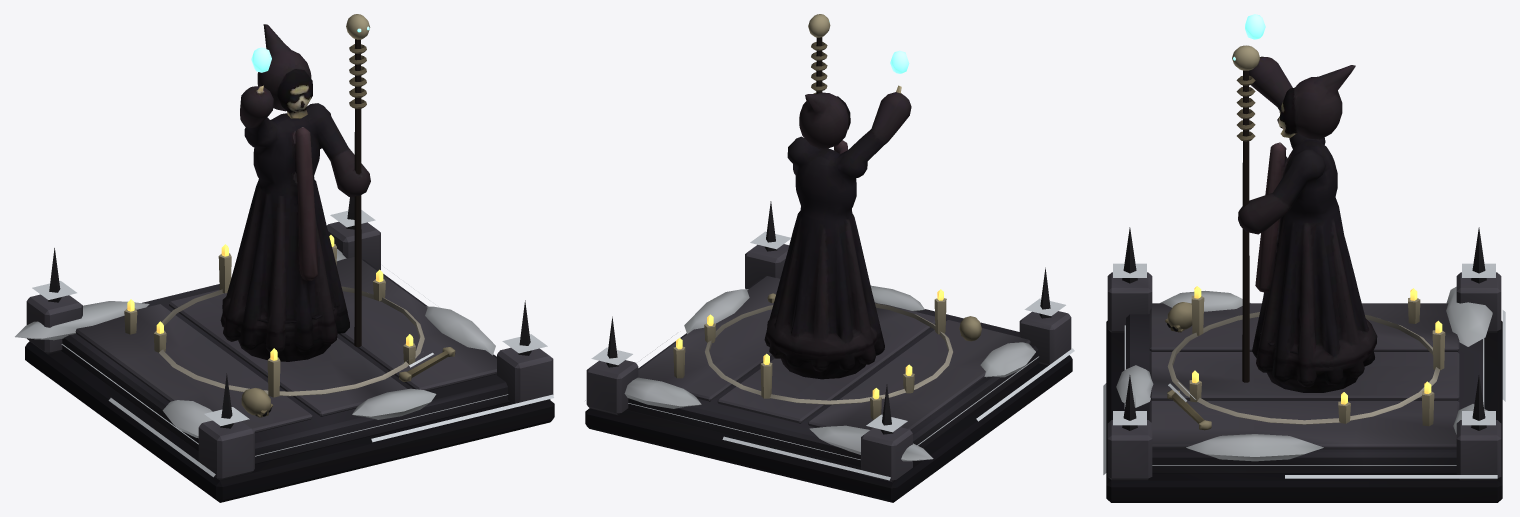
Rendered from ombres-6.glb.
The picture shows the model from 3 angles, left to right: view 1: azimuth 30°, elevation 25°; view 2: azimuth 150°, elevation 25°; view 3: azimuth 270°, elevation 25°; orthographic projection. The views are drawn at different scales.
Visible parts, largest first — view 1: ombres_6_architecture, ombres_6_necro, ombres_6_necro_accessoires; view 2: ombres_6_architecture, ombres_6_necro, ombres_6_necro_accessoires; view 3: ombres_6_architecture, ombres_6_necro, ombres_6_necro_accessoires, ombres_6_lueur.
Boxes of the visible parts, bbox=[...] form: ombres_6_architecture: bbox=[15, 197, 554, 502]; ombres_6_necro: bbox=[220, 24, 370, 361]; ombres_6_necro_accessoires: bbox=[258, 14, 370, 346]; ombres_6_architecture: bbox=[585, 201, 1074, 502]; ombres_6_necro: bbox=[764, 85, 911, 379]; ombres_6_necro_accessoires: bbox=[808, 14, 830, 148]; ombres_6_architecture: bbox=[1103, 227, 1505, 502]; ombres_6_necro: bbox=[1238, 56, 1377, 392]; ombres_6_necro_accessoires: bbox=[1232, 45, 1298, 382]; ombres_6_lueur: bbox=[1192, 286, 1442, 404].
Size of the model in its own units: 0.8655 by 0.8778 by 0.811.
4 materials, 1 textured.
